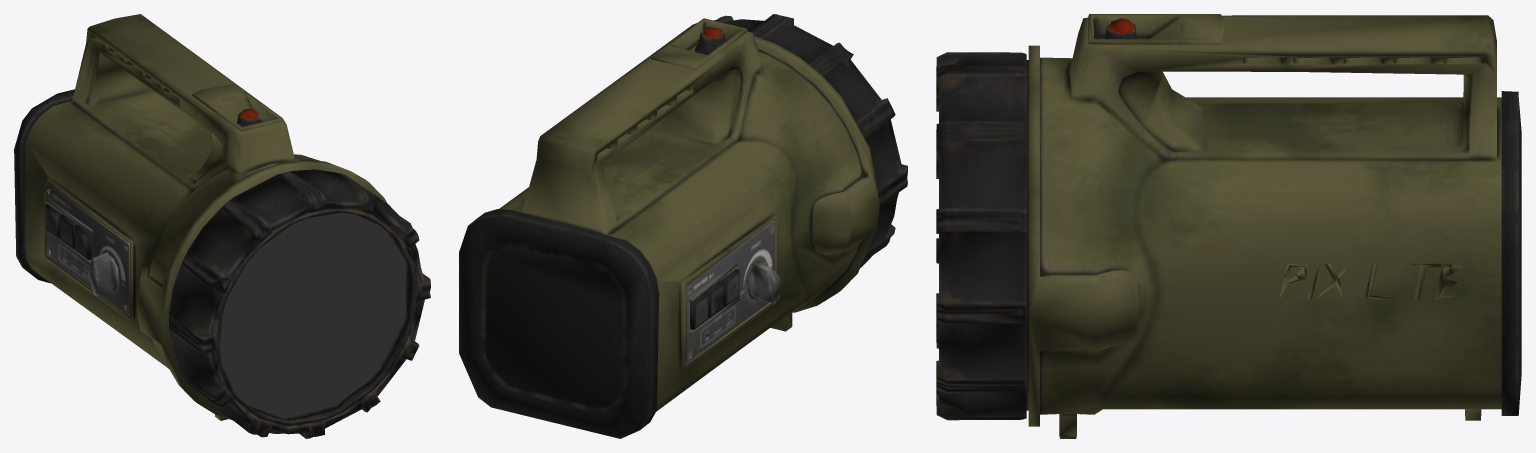
The model's file is portable_searchlight_game.gltf.
3 renders of one model, left to right at view 1: azimuth 30°, elevation 25°; view 2: azimuth 150°, elevation 25°; view 3: azimuth 270°, elevation 25°, orthographic. The views are drawn at different scales.
Parts seen in each view (by area): view 1: portable_searchlight; view 2: portable_searchlight; view 3: portable_searchlight.
Boxes of the visible parts, x1,y1,x2,y2 form: portable_searchlight: [14, 14, 430, 438]; portable_searchlight: [459, 14, 907, 438]; portable_searchlight: [936, 14, 1521, 438].
Bounding box in the file's own units: 0.1653 × 0.1849 × 0.2534.
2 materials, 2 textured.
